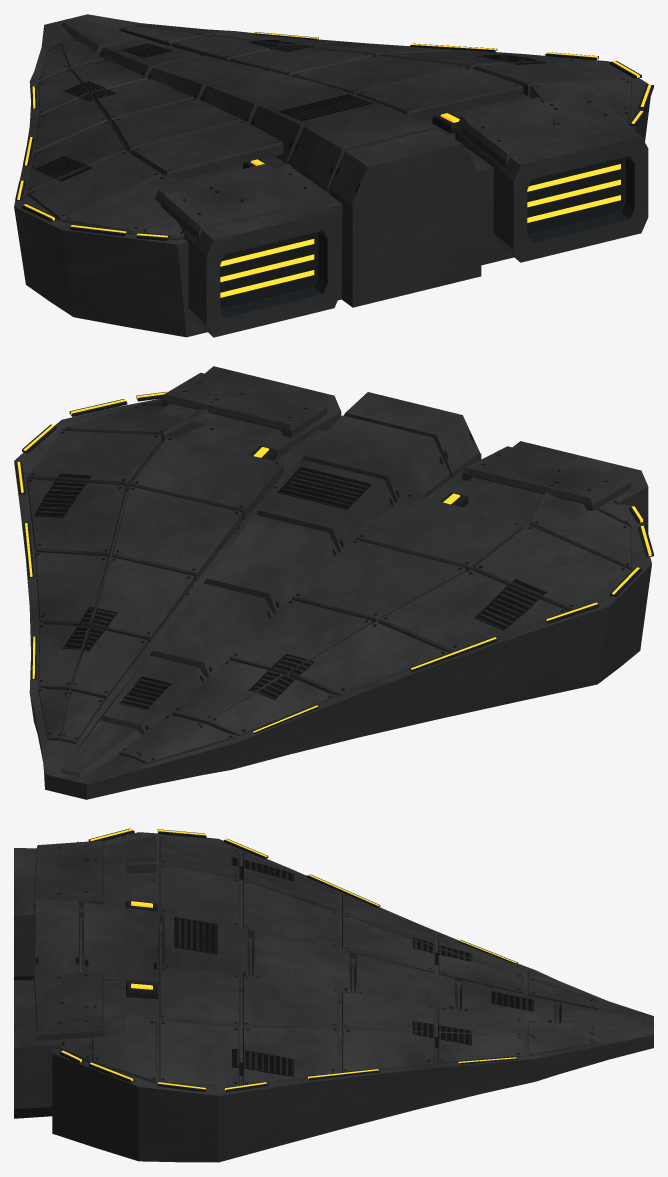
The model's file is cutlass.glb.
3 views of the same model, one above another, from view 1: azimuth 30°, elevation 25°; view 2: azimuth 150°, elevation 25°; view 3: azimuth 270°, elevation 25° (orthographic). The views are drawn at different scales.
Visible parts, largest first — view 1: Cutlass; view 2: Cutlass; view 3: Cutlass.
Boxes of the visible parts, x1,y1,x2,y2 form: Cutlass: (14,14,653,337); Cutlass: (14,366,653,799); Cutlass: (14,828,653,1162).
Size of the model in its own units: 1.9 by 0.413 by 2.
4 materials, 1 textured.
